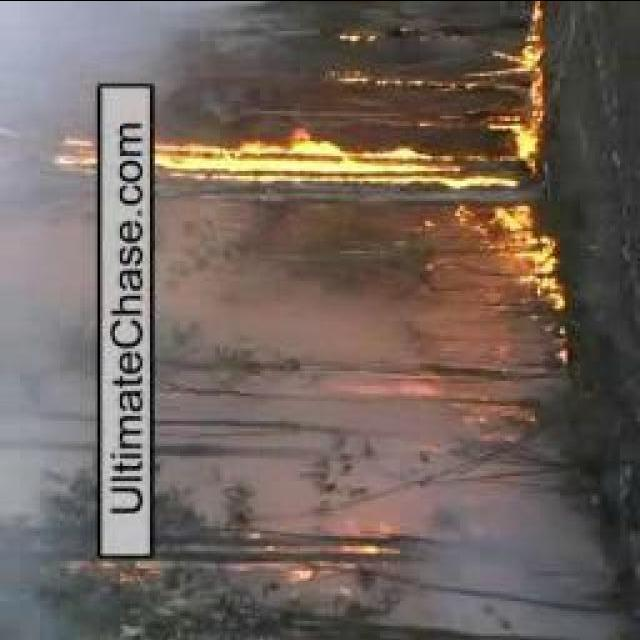Fire: (61, 137, 540, 179), (450, 200, 561, 320), (486, 2, 542, 88)
